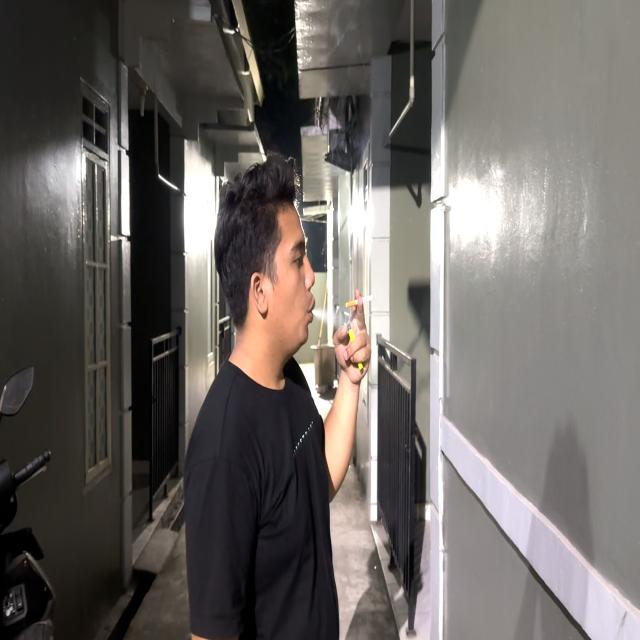cigarette: (345, 294, 376, 309)
smoking: (211, 149, 376, 504)
